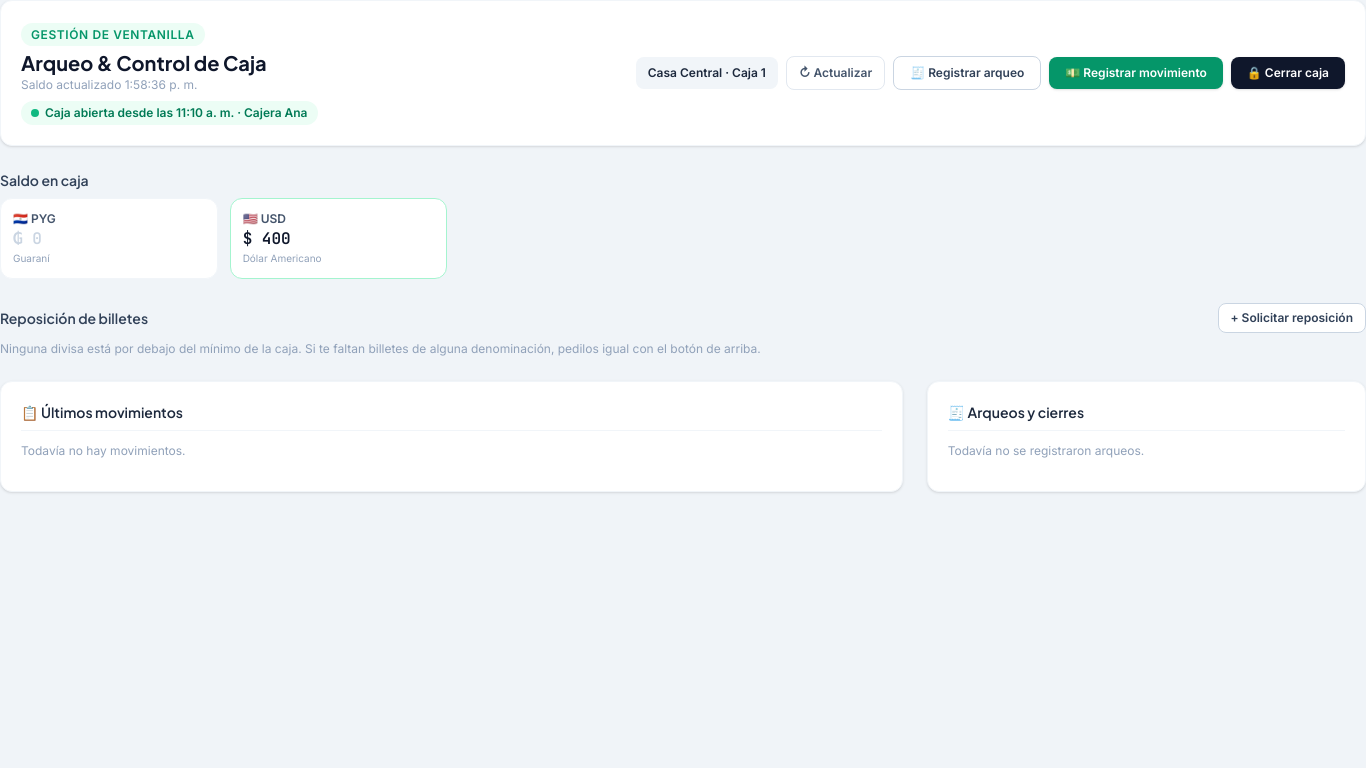
Test: CashCountView · saldo por divisa (PI-44 / PI-78) › bloquea el scroll de la página mientras el modal está abierto
Expected: the text "$ 400" is shown, 243,228 -> 291,249
Click the button "💵 Registrar movimiento" at (1136,73), box 1049,57 -> 1223,89
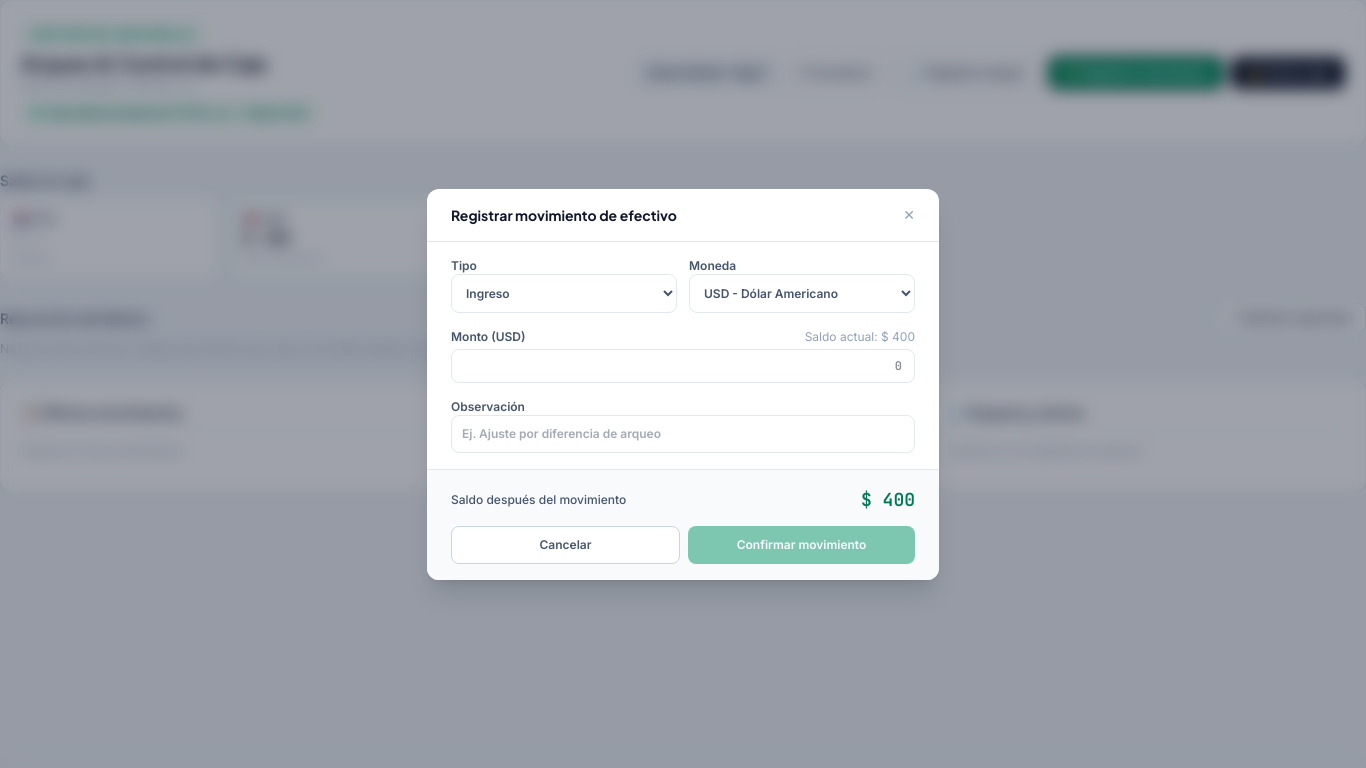
Click the button "Cancelar" at (566,544), box 451,526 -> 680,564
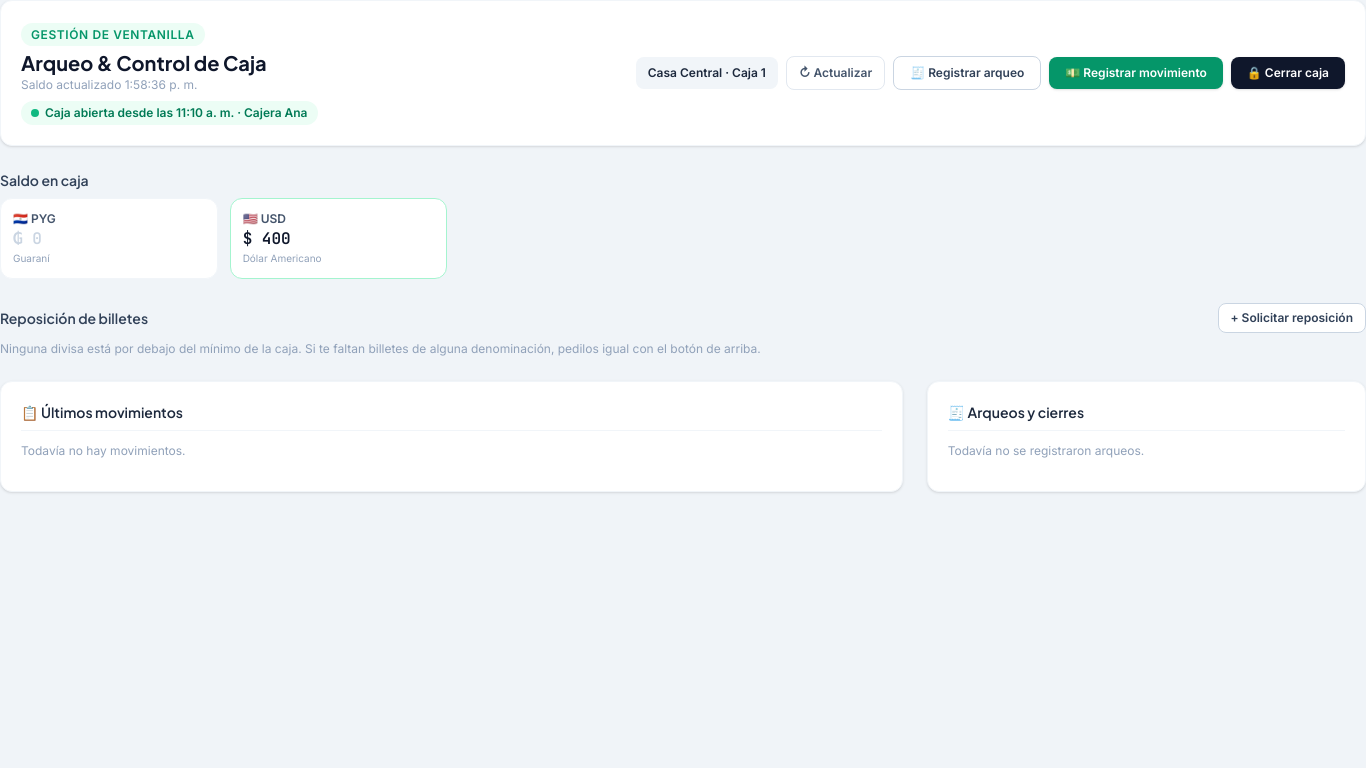
Expected: the dialog is gone
